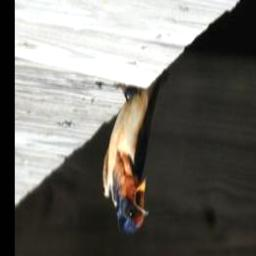Swallow: (102, 85, 158, 240)
